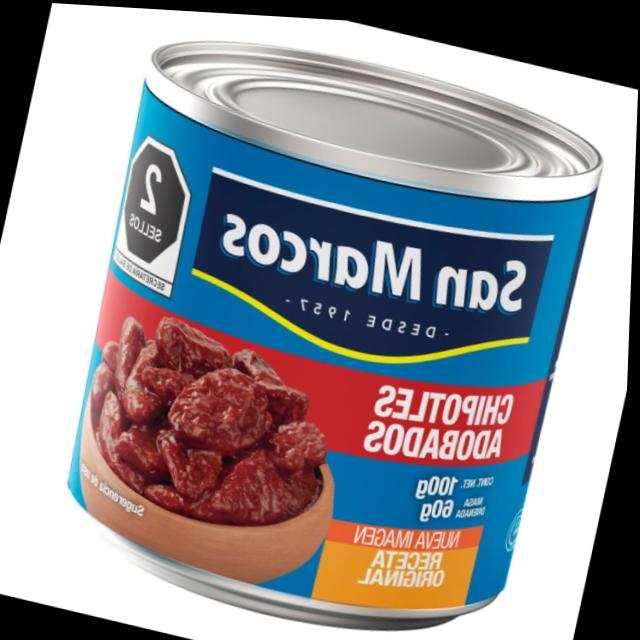Lata: (60, 5, 618, 640)
